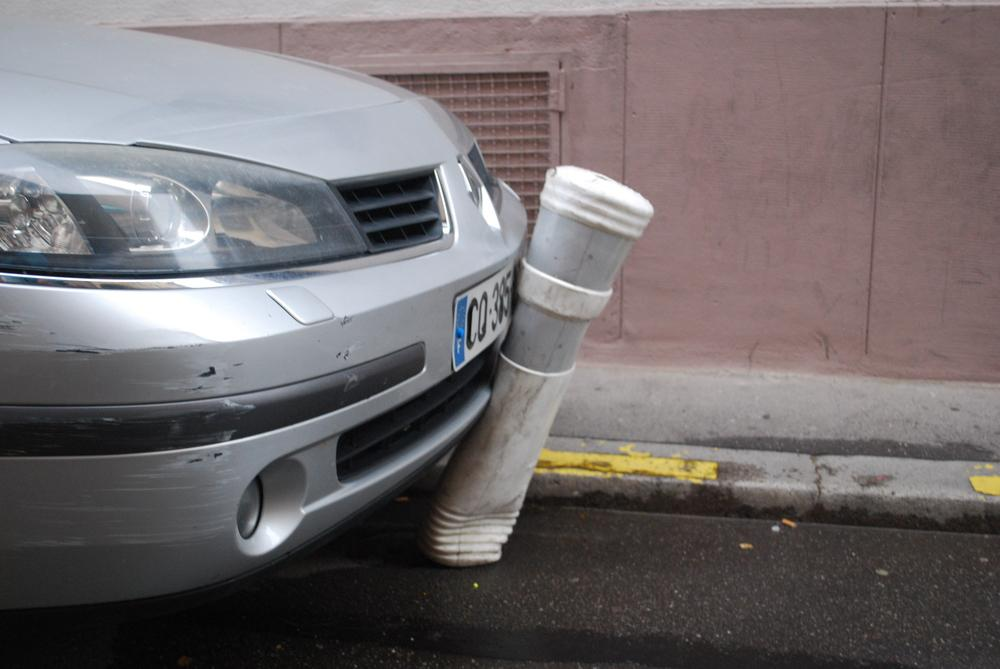scratch: (0, 309, 257, 552)
